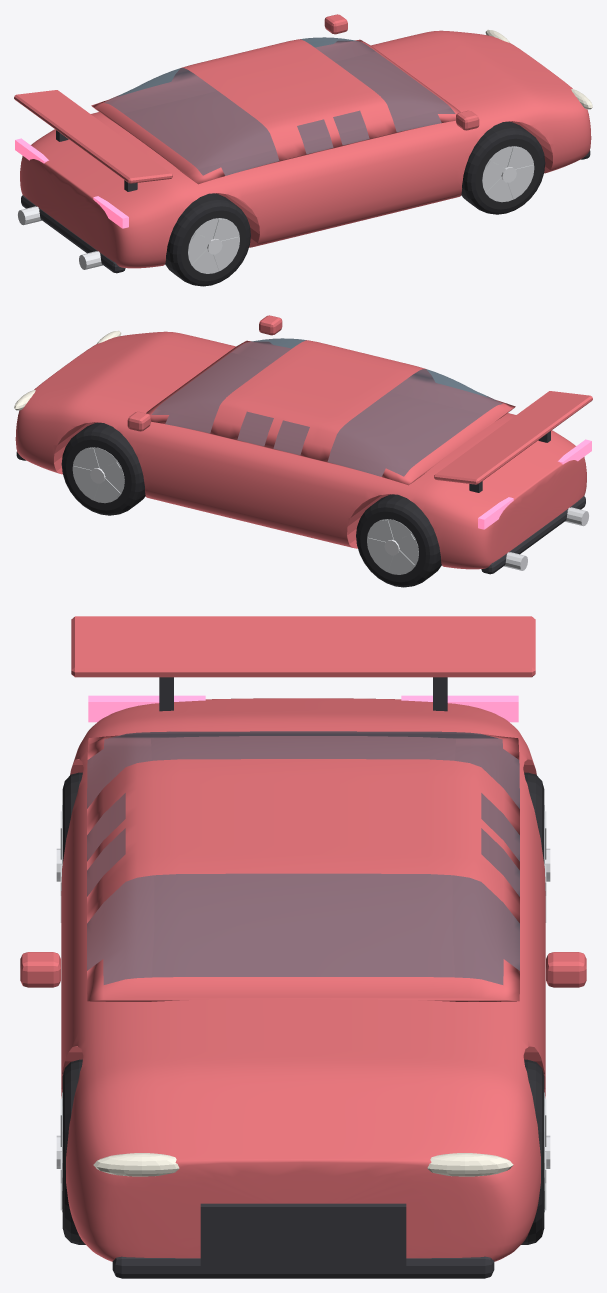
Rendered from redline_coupe.fbx.
The picture shows the model from 3 angles, top to bottom: view 1: azimuth 30°, elevation 25°; view 2: azimuth 150°, elevation 25°; view 3: azimuth 270°, elevation 25°; orthographic projection. The views are drawn at different scales.
Visible parts, largest first — view 1: Body.010, Glass.010, Tire.010, Rim.010, Trim.010, Chrome.010, TailLight.010; view 2: Body.010, Glass.010, Tire.010, Rim.010, Trim.010, Chrome.010, TailLight.010; view 3: Body.010, Glass.010, Trim.010, Tire.010, HeadLight.010, TailLight.010, Rim.010.
Part boxes in pixels (bbox=[...]): Body.010: bbox=[14, 14, 591, 268]; Glass.010: bbox=[104, 37, 455, 175]; Tire.010: bbox=[165, 121, 545, 286]; Rim.010: bbox=[188, 146, 534, 273]; Trim.010: bbox=[21, 130, 590, 273]; Chrome.010: bbox=[18, 167, 516, 269]; TailLight.010: bbox=[15, 138, 128, 228]; Body.010: bbox=[15, 315, 592, 569]; Glass.010: bbox=[151, 338, 502, 476]; Tire.010: bbox=[61, 422, 441, 587]; Rim.010: bbox=[72, 447, 418, 574]; Trim.010: bbox=[16, 431, 585, 574]; Chrome.010: bbox=[90, 468, 588, 570]; TailLight.010: bbox=[478, 439, 591, 529]; Body.010: bbox=[20, 616, 586, 1261]; Glass.010: bbox=[87, 731, 519, 984]; Trim.010: bbox=[112, 677, 494, 1278]; Tire.010: bbox=[62, 772, 544, 1244]; HeadLight.010: bbox=[93, 1153, 513, 1176]; TailLight.010: bbox=[88, 695, 518, 722]; Rim.010: bbox=[60, 805, 546, 1212].
Bounding box in the file's own units: 1540 × 389 × 765.
